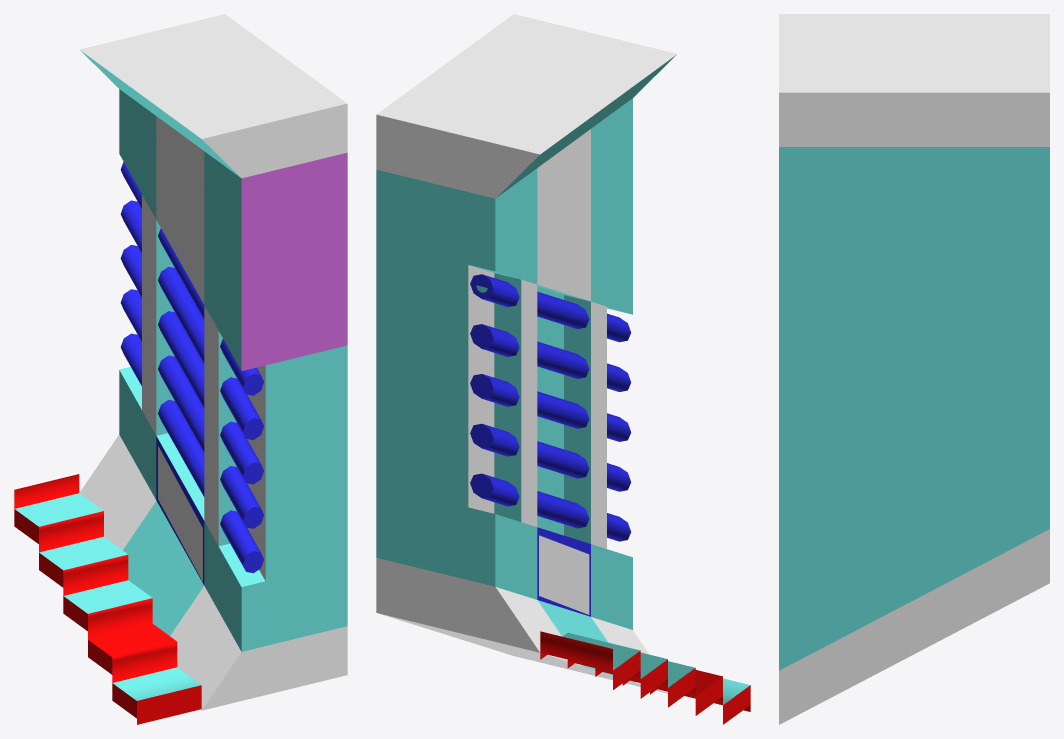
File: Wall-BaseAngledMid.fbx
3 renders of one model, left to right at view 1: azimuth 30°, elevation 25°; view 2: azimuth 150°, elevation 25°; view 3: azimuth 270°, elevation 25°, orthographic. The views are drawn at different scales.
Visible parts, largest first — view 1: BaseAngledMid; view 2: BaseAngledMid; view 3: BaseAngledMid.
Part boxes in pixels (box(x1,y1,x2,y2)): BaseAngledMid: box(14, 14, 347, 724); BaseAngledMid: box(376, 14, 750, 724); BaseAngledMid: box(779, 14, 1049, 724).
Size of the model in its own units: 78.28 by 203 by 78.74.
